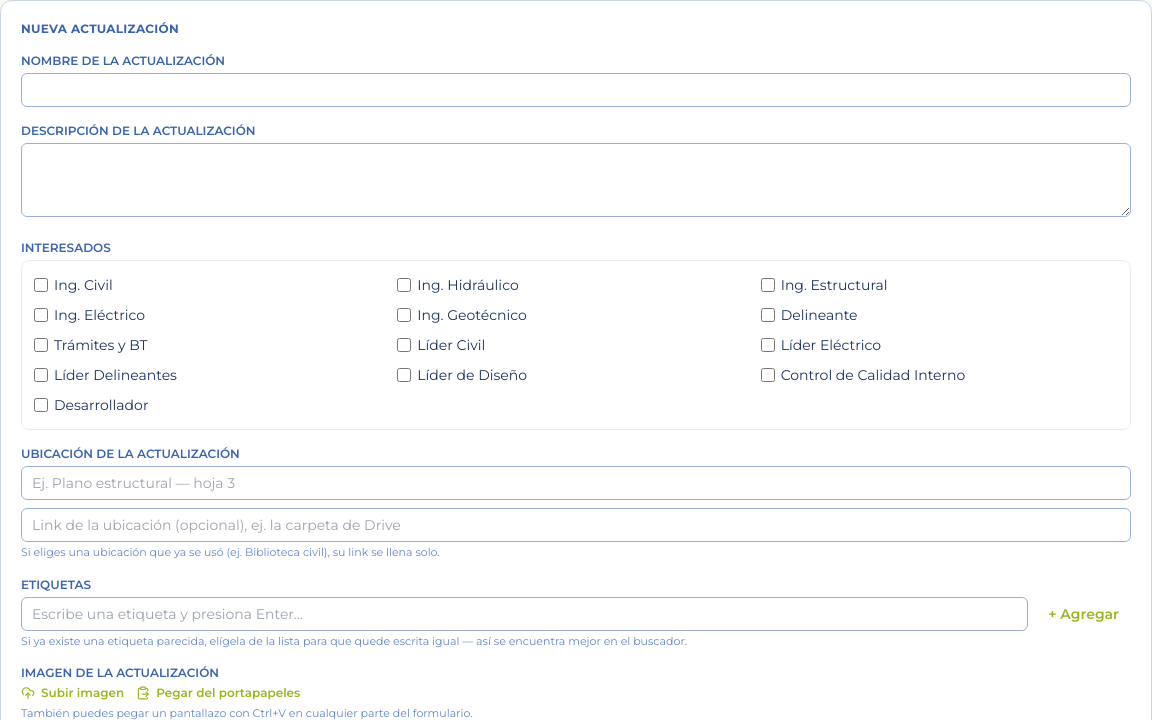
Test case: el formulario de una actualización › si el portapapeles no tiene imagen, lo dice
Click the button "Pegar del portapapeles". click: (218, 693)
box: [136, 685, 300, 701]
(page scrolled)
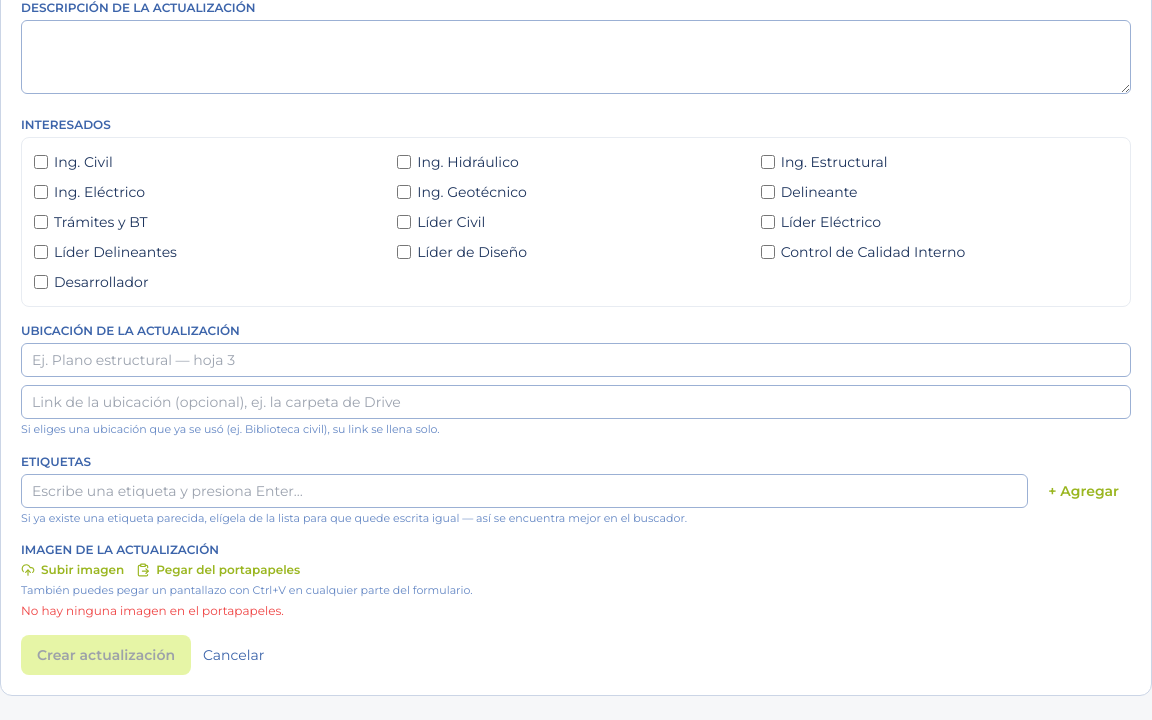
Expected: the text "No hay ninguna imagen en el portapapeles." is shown, [21, 602, 284, 618]
